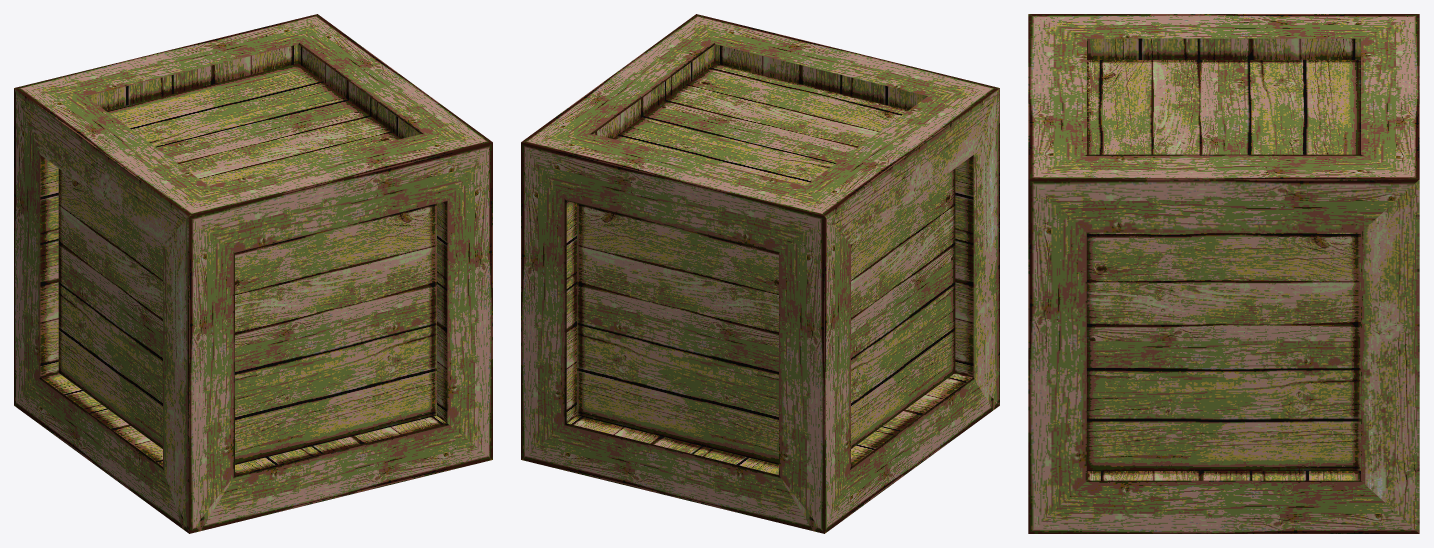
The model's file is Crate.fbx.
The picture shows the model from 3 angles, left to right: view 1: azimuth 30°, elevation 25°; view 2: azimuth 150°, elevation 25°; view 3: azimuth 270°, elevation 25°; orthographic projection. The views are drawn at different scales.
Visible parts, largest first — view 1: Cube; view 2: Cube; view 3: Cube.
Boxes of the visible parts, x1=… form: Cube: x1=14, y1=14, x2=492, y2=533; Cube: x1=521, y1=14, x2=999, y2=533; Cube: x1=1028, y1=14, x2=1419, y2=533.
Size of the model in its own units: 85.66 by 85.66 by 85.66.
Materials: 1 (1 with a texture image).
